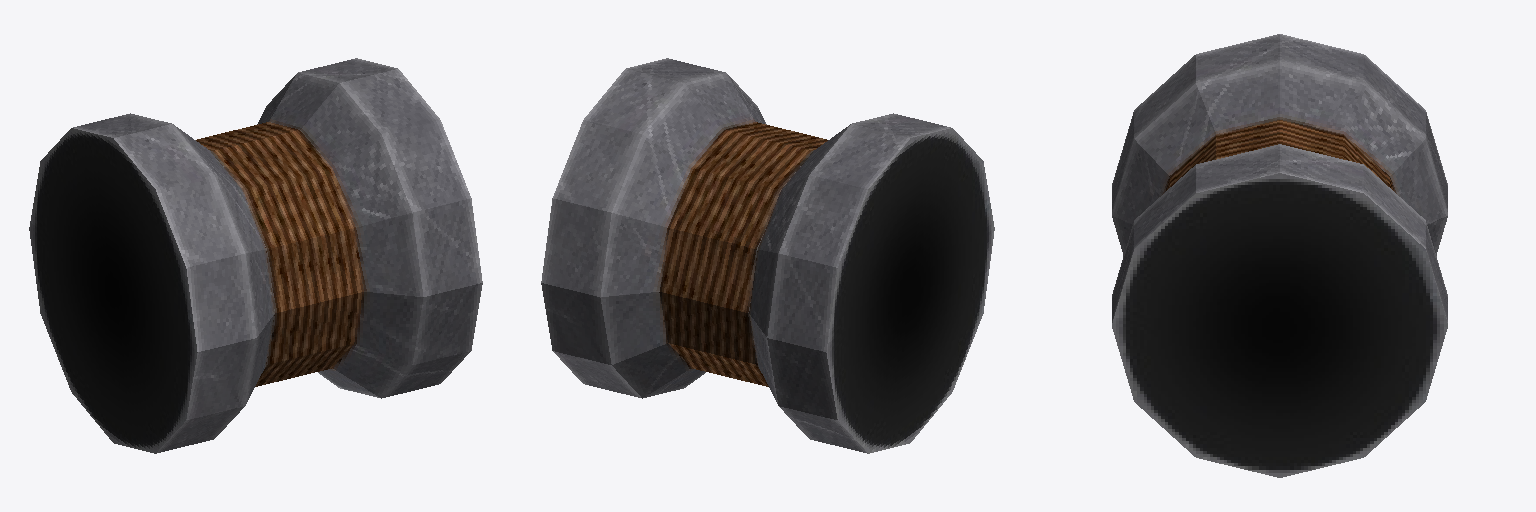
The picture shows the model from 3 angles: view 1: azimuth 30°, elevation 25°; view 2: azimuth 150°, elevation 25°; view 3: azimuth 270°, elevation 25°; orthographic projection.
Visible parts, largest first — view 1: Object03; view 2: Object03; view 3: Object03.
Part boxes in pixels (bbox=[...]): Object03: bbox=[29, 58, 482, 453]; Object03: bbox=[541, 58, 994, 453]; Object03: bbox=[1112, 34, 1447, 477].
Bounding box in the file's own units: 19.52 × 19.96 × 19.96.
1 materials, 1 textured.